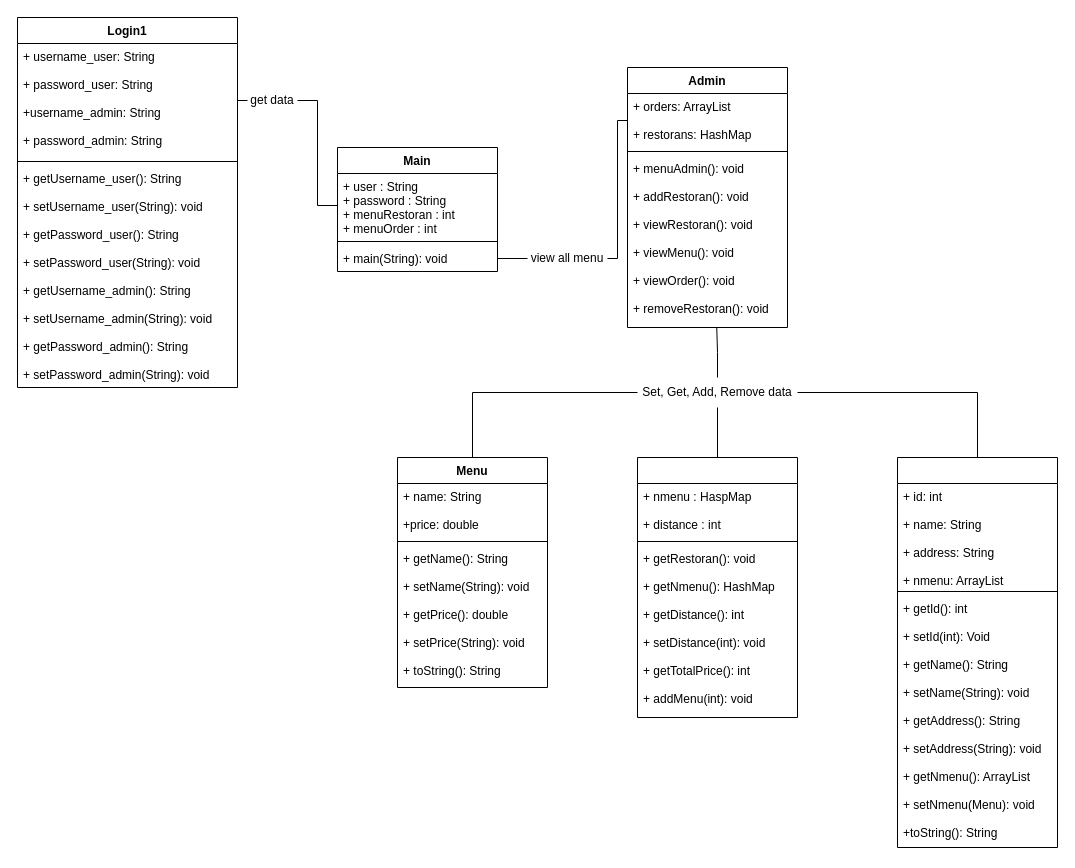
This 1075x868 diagram has some shape labels left out. Here are the shapes that lost their labels. From the top down, the box of each, then its label:
(636, 456, 798, 718): Order
(896, 456, 1058, 848): Restoran
